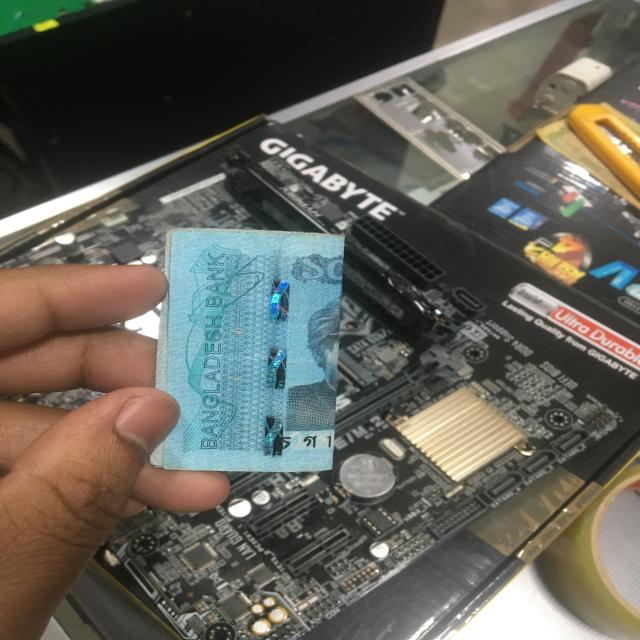Taka: (158, 224, 346, 464)
